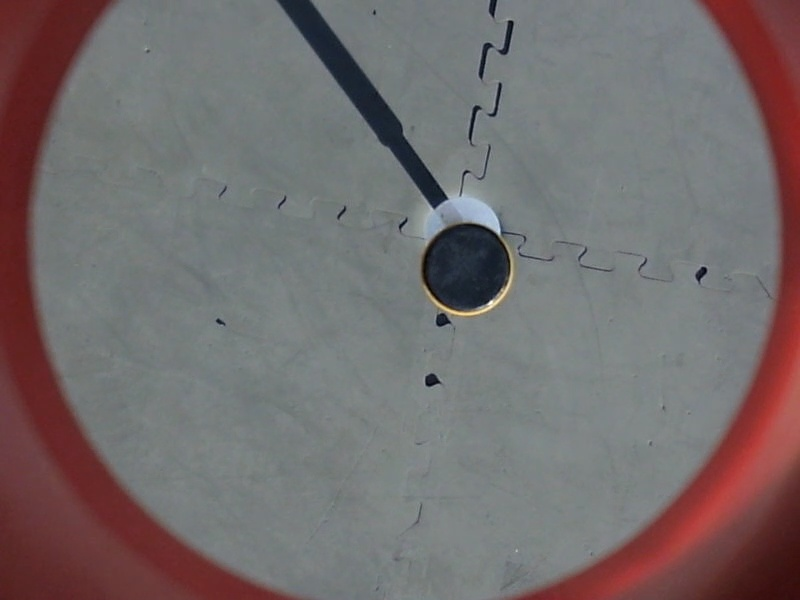tip: (414, 220, 521, 317)
